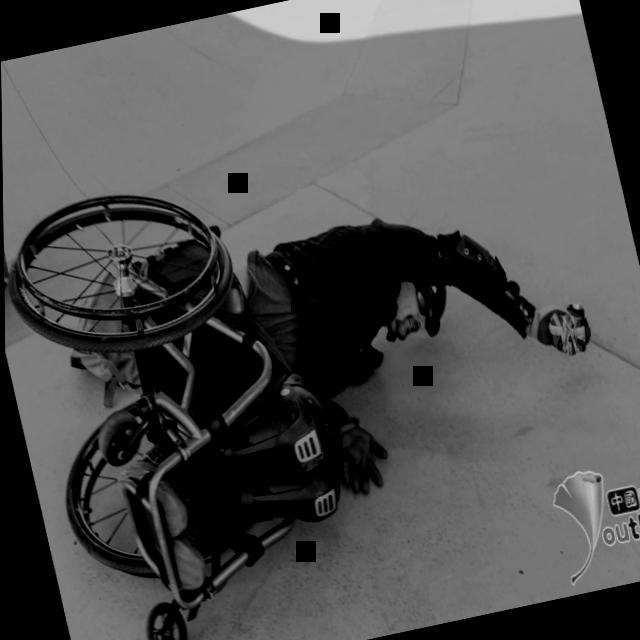Fall-Detected: (46, 144, 614, 570)
